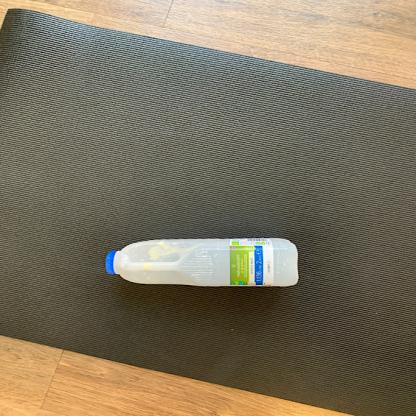trash: (105, 236, 301, 289)
